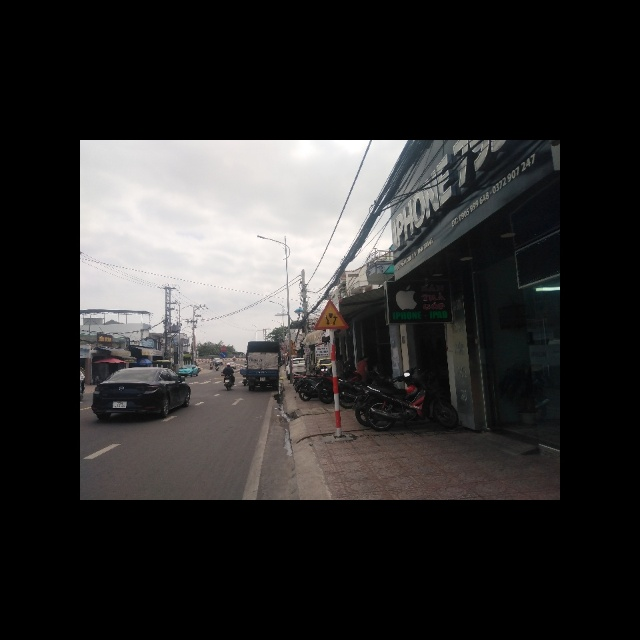Đường đôi: (312, 298, 347, 330)
